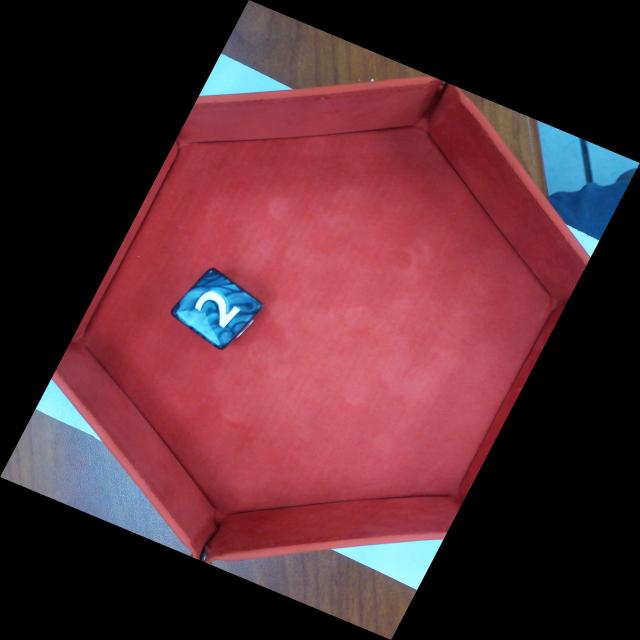dice: (170, 267, 264, 350)
